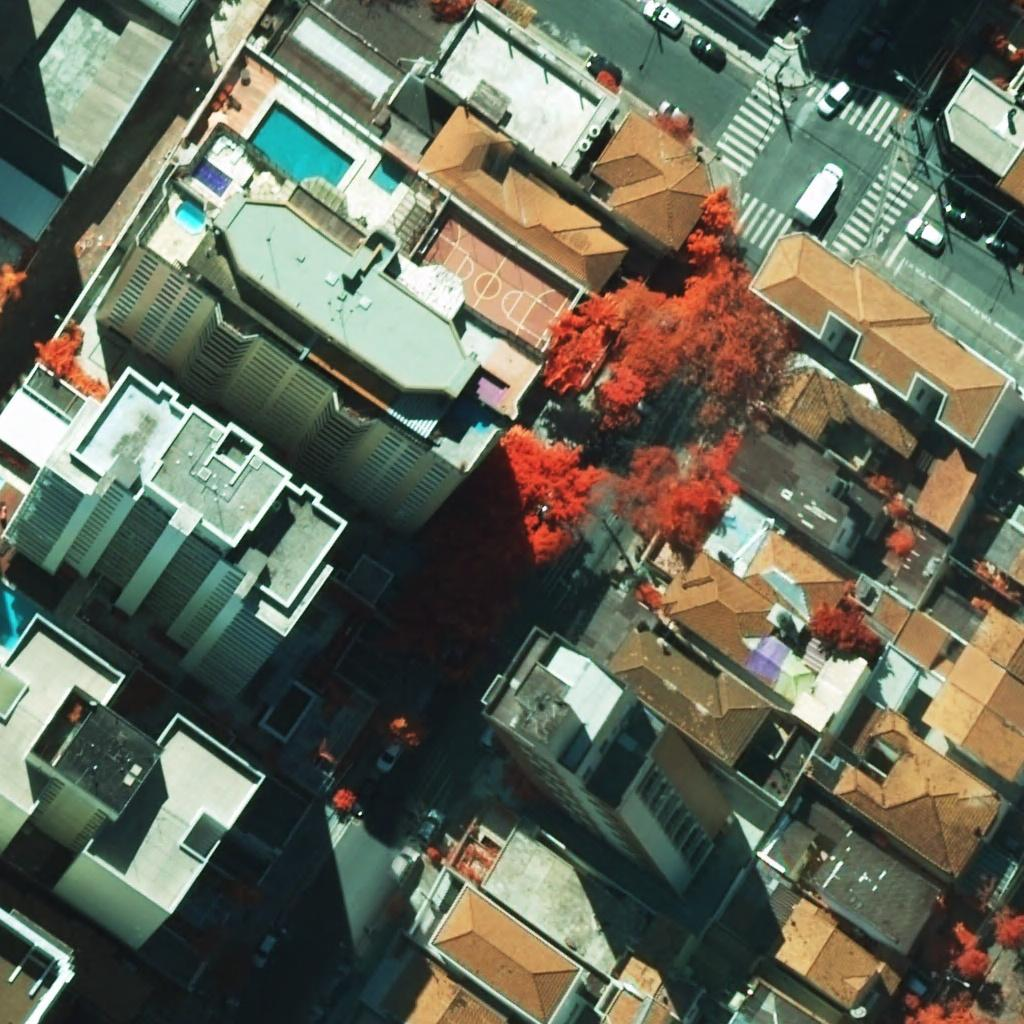pool: (247, 100, 354, 188), (192, 158, 233, 197), (369, 155, 408, 195), (176, 202, 205, 230)
